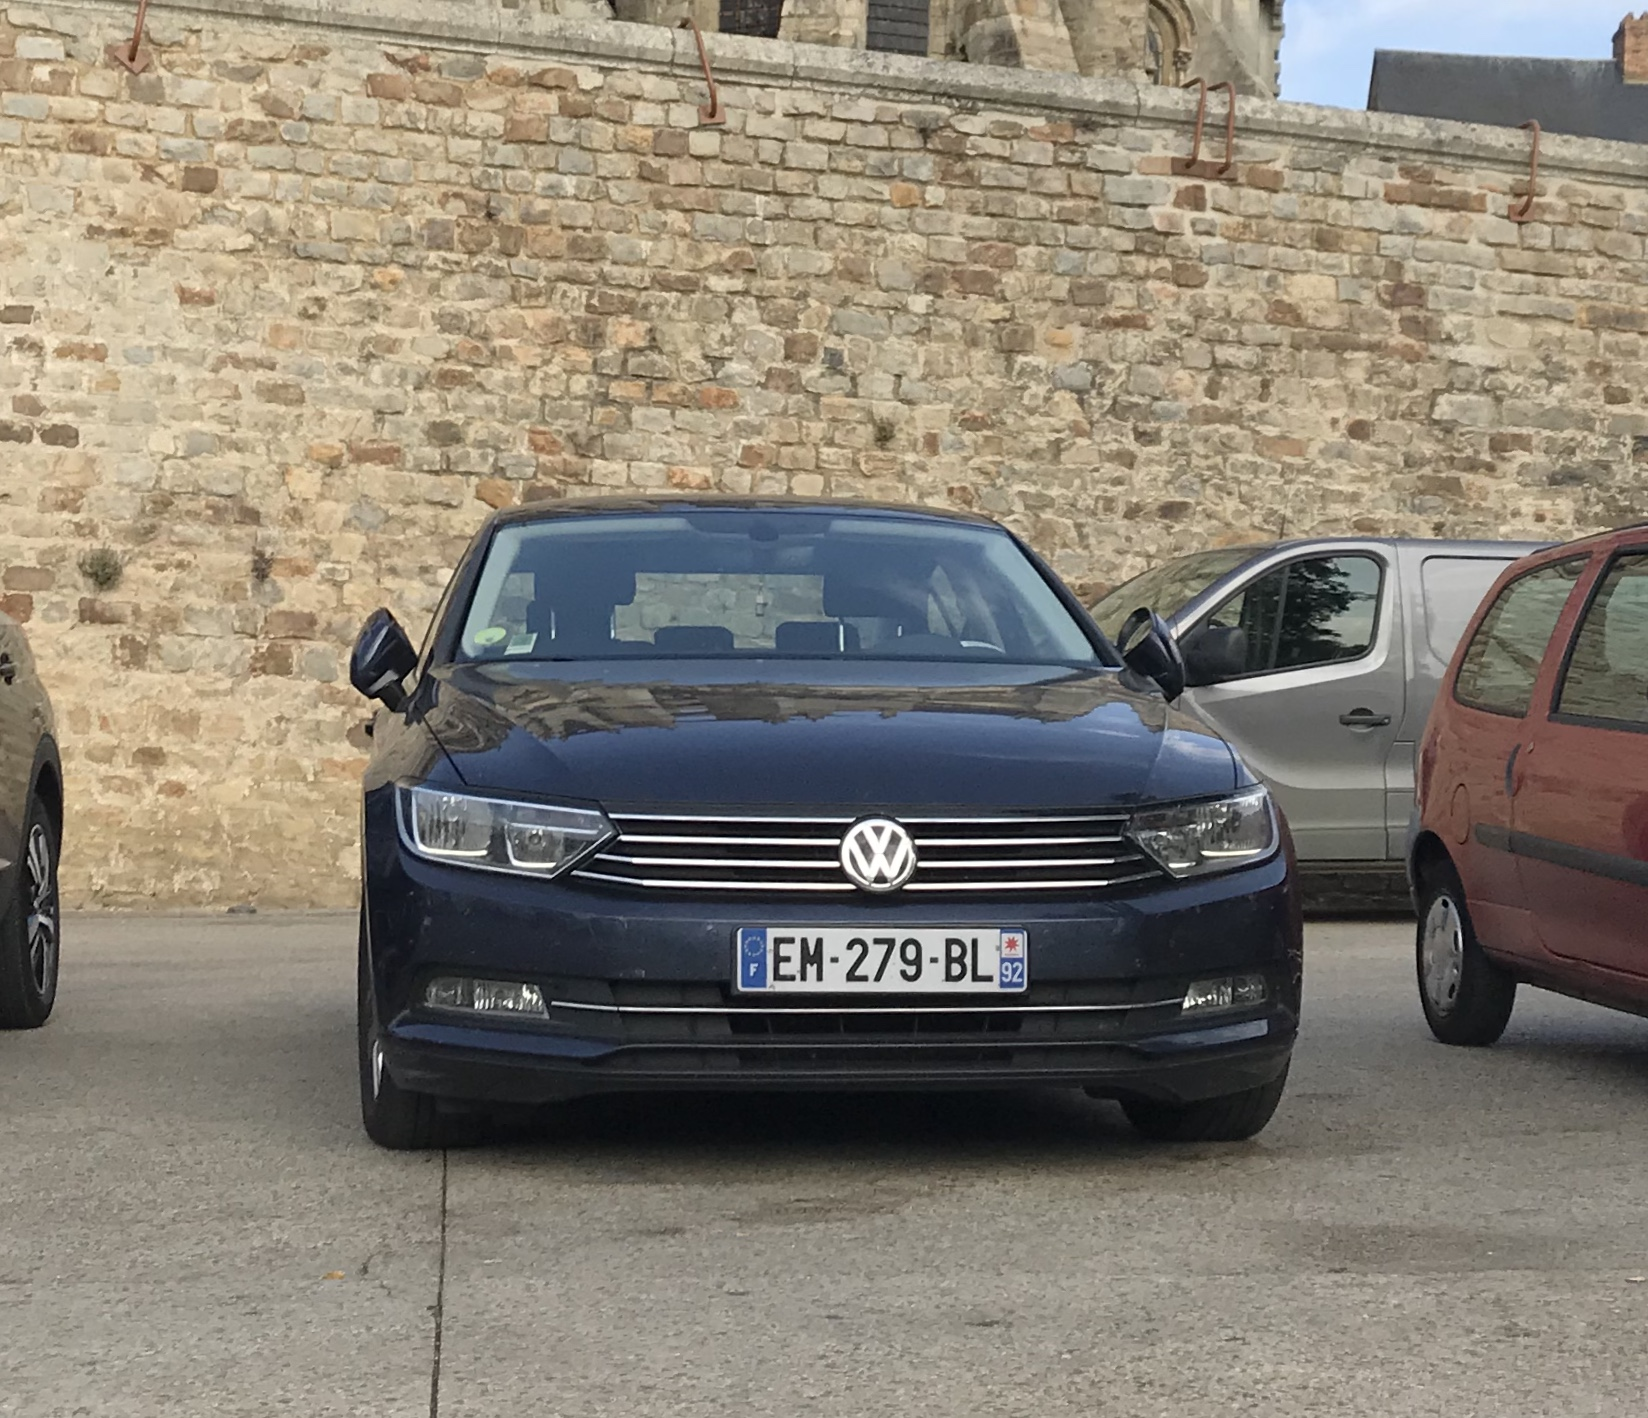licence plate: (726, 921, 1038, 999)
